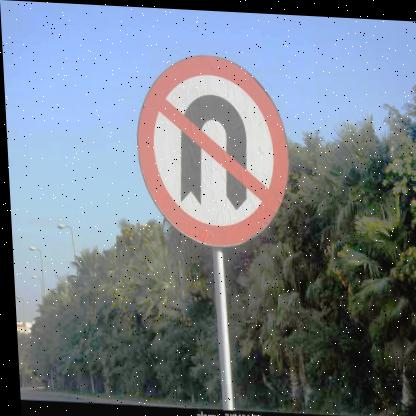No U-turn: (128, 47, 294, 248)
